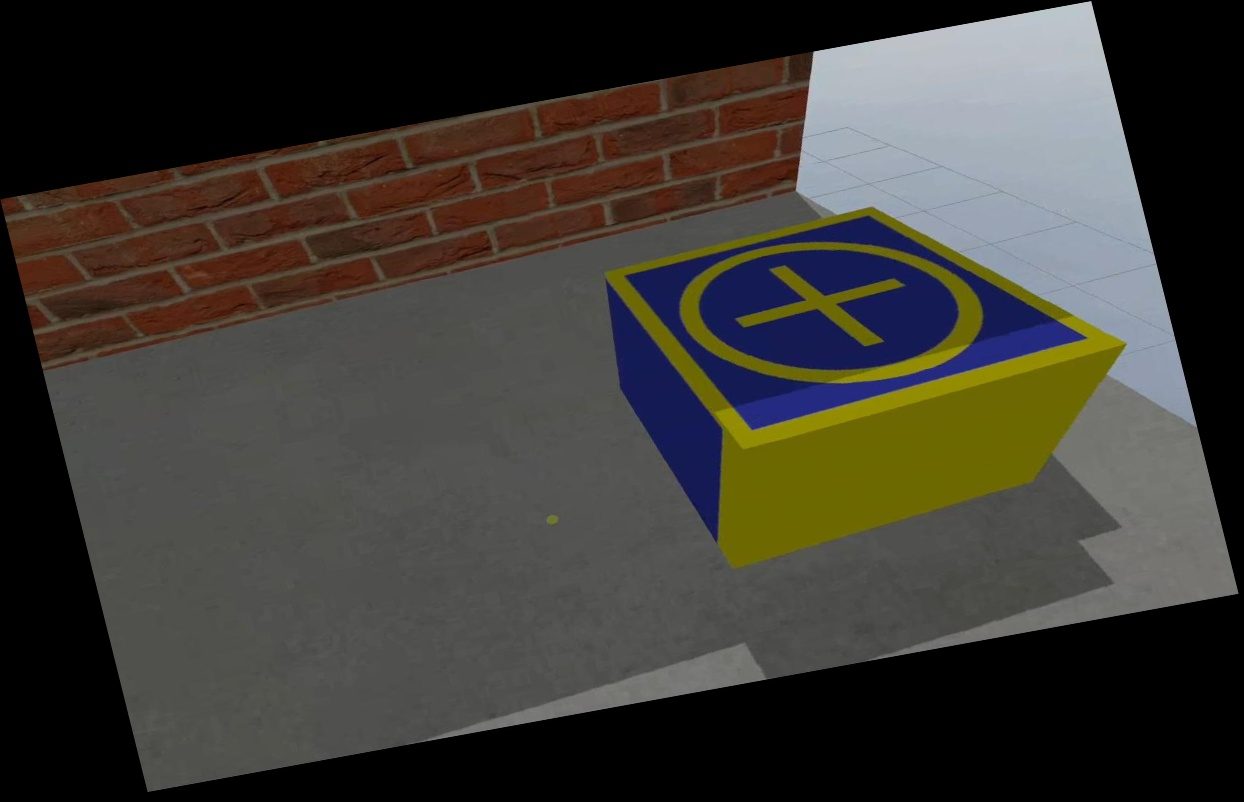small_base: (593, 171, 1138, 469)
